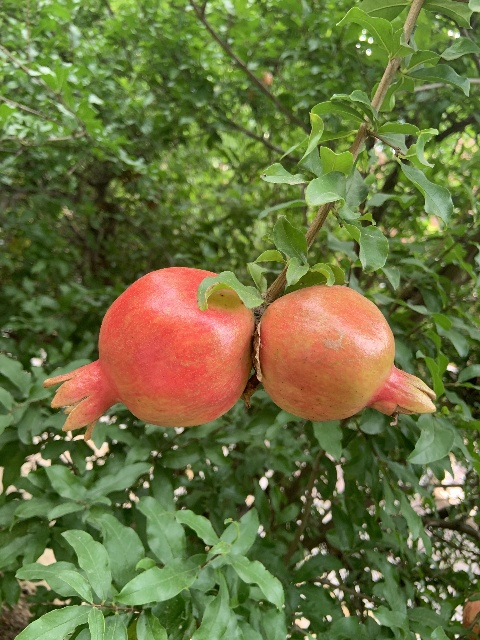ripe: (43, 266, 253, 441), (258, 284, 436, 420)
